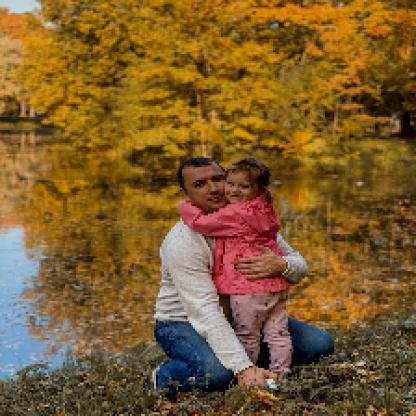child: (177, 156, 296, 381)
